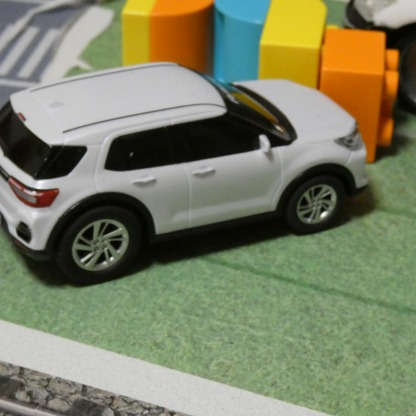car: (0, 59, 366, 285)
